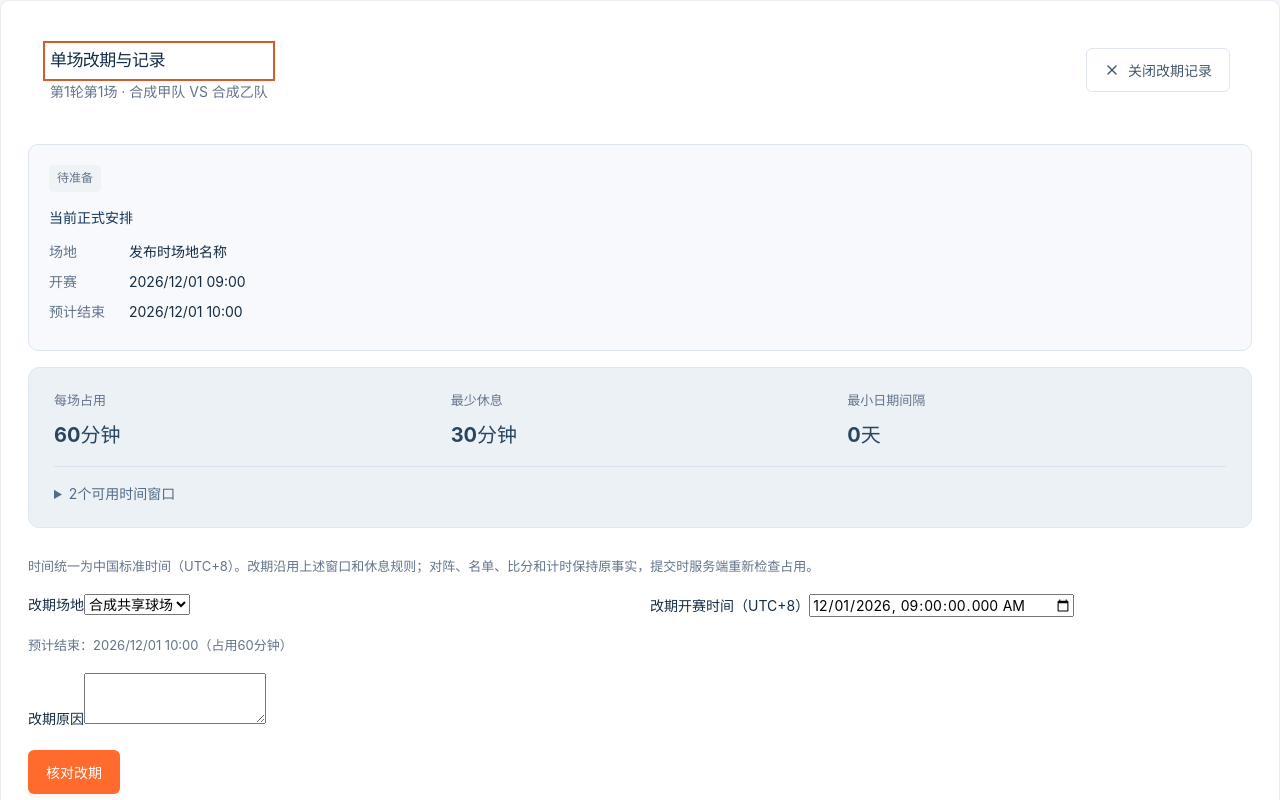
Test: 单场改期与记录 › HTTP 500的不确定或陈旧响应不冒充改期成功
The image size is (1280, 800).
Expected: the text box labelled "改期原因" is shown, 84,674 -> 266,724
Step 1. Replace the text in the field labelled "改期开赛时间（UTC+8）" with "2026-12-01T15:00" → [942, 606], box 809,594 -> 1074,617
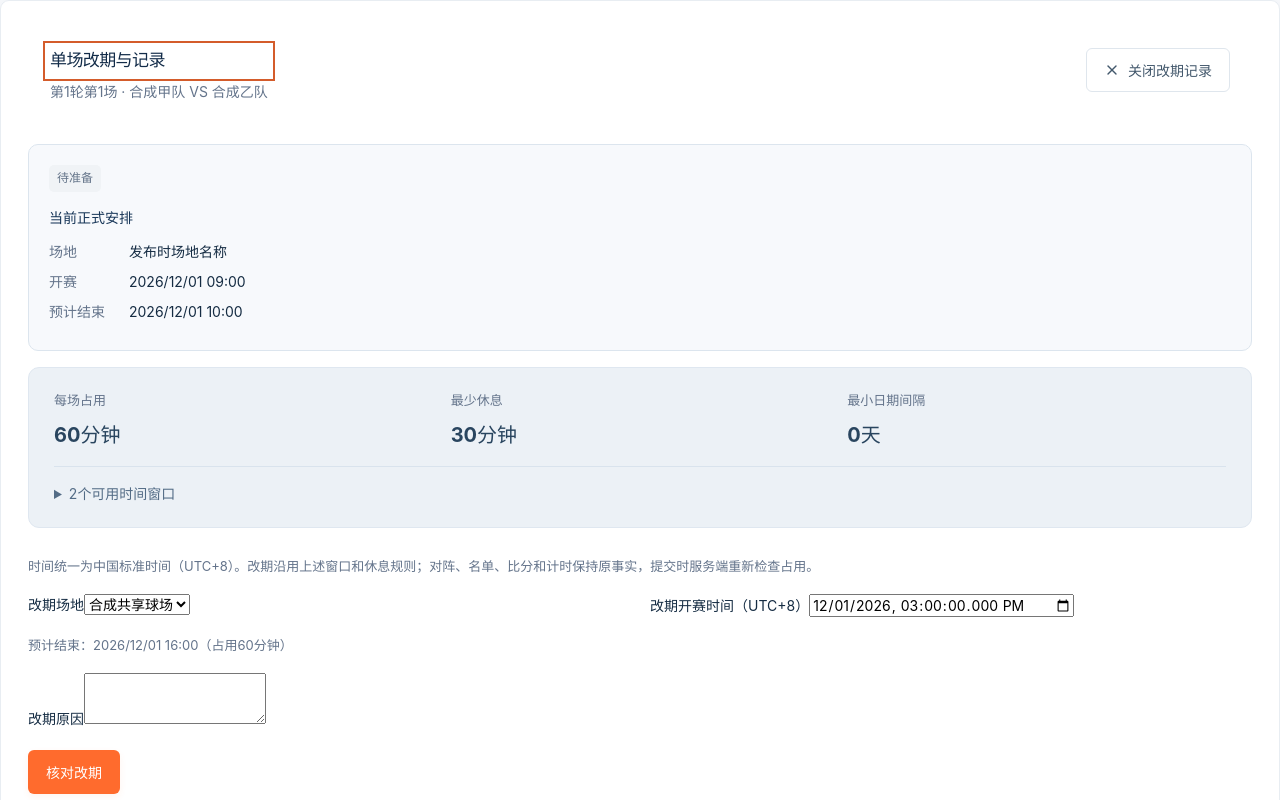
Step 2. Type "雨后调整场地" into the text box labelled "改期原因" → [175, 699], box 84,674 -> 266,724
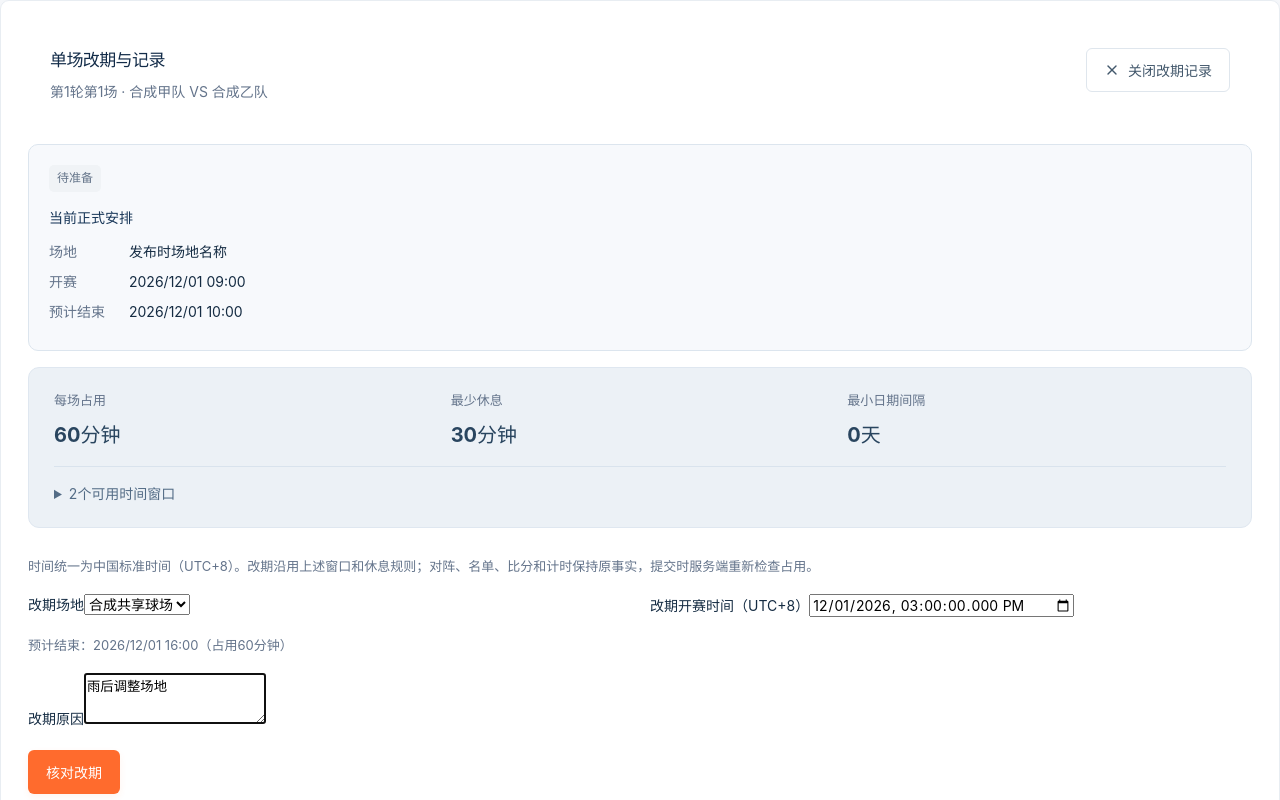
Step 3. Click the button "核对改期" → [74, 772], box 28,750 -> 120,794
(page scrolled)
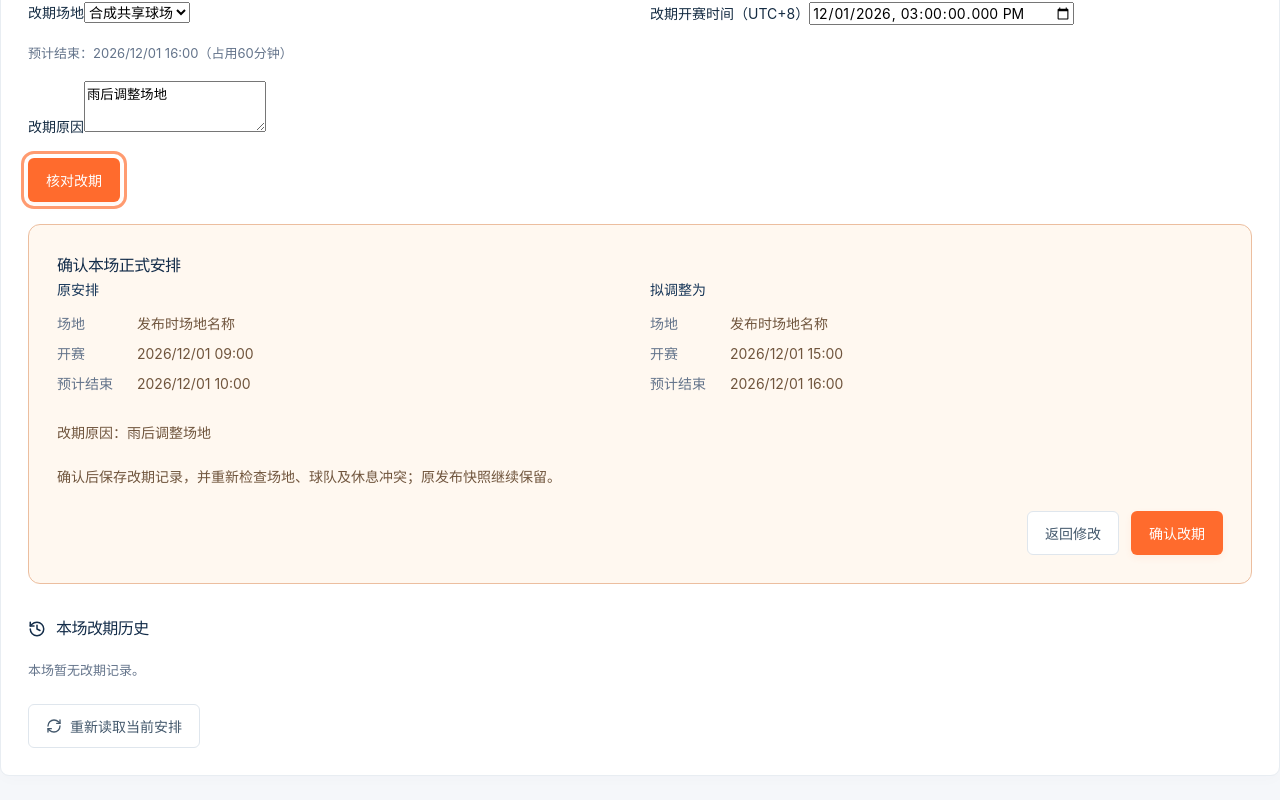
Step 4. Click the button "确认改期" → [1177, 533], box 1131,511 -> 1223,555
(page scrolled)
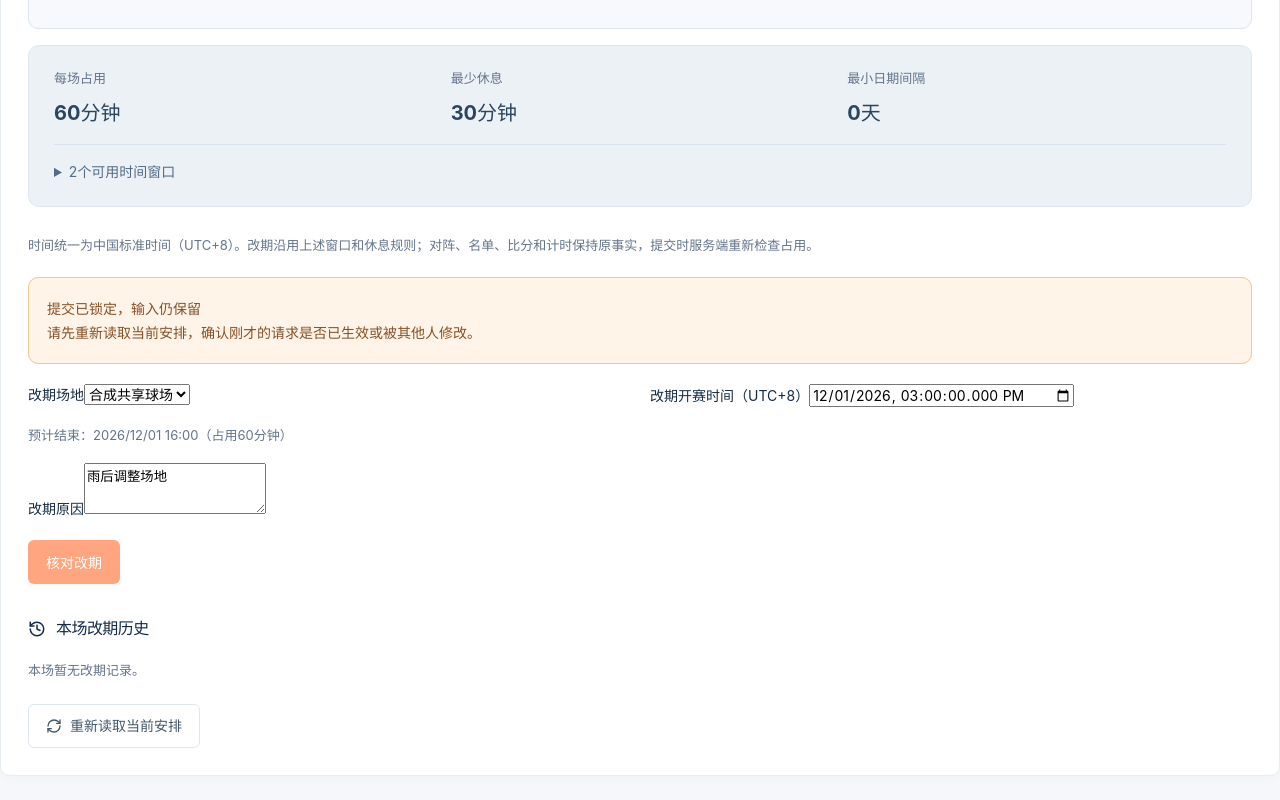
Expected: the button "核对改期" is disabled, 28,540 -> 120,584
